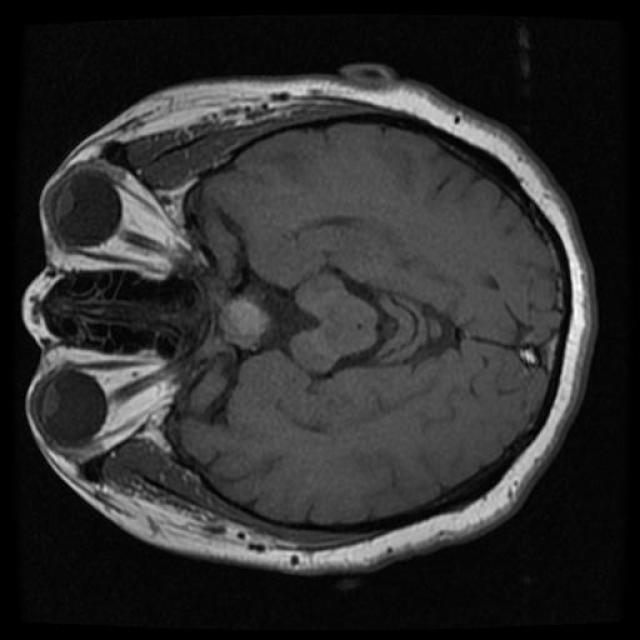Pituitary: (222, 297, 271, 349)
